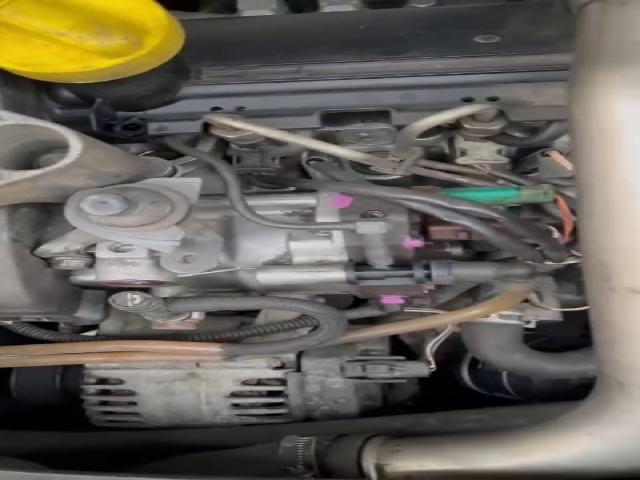alternator: (82, 353, 296, 428)
high_pressure_pump: (35, 177, 539, 311)
